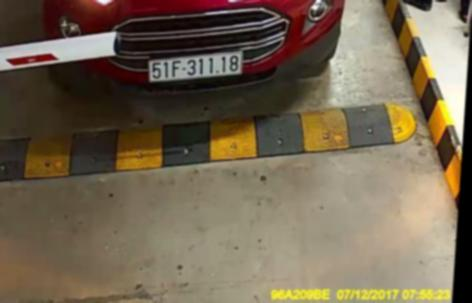License_Plate: (148, 53, 245, 82)
